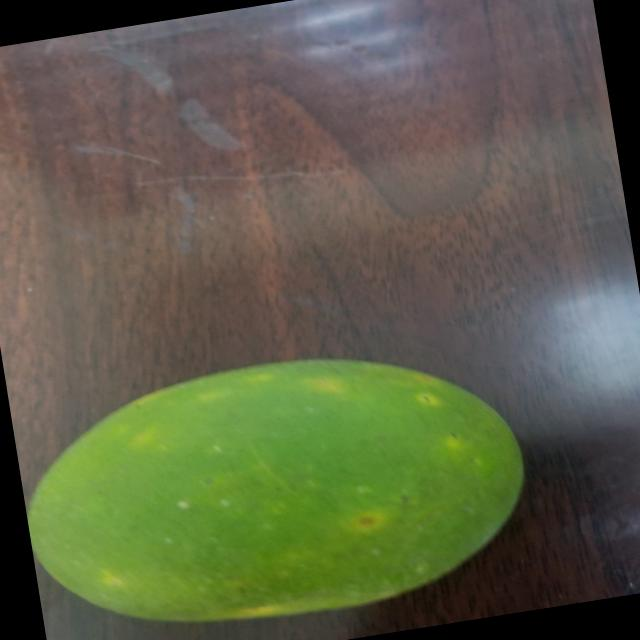Ripe orange: (15, 319, 548, 640)
